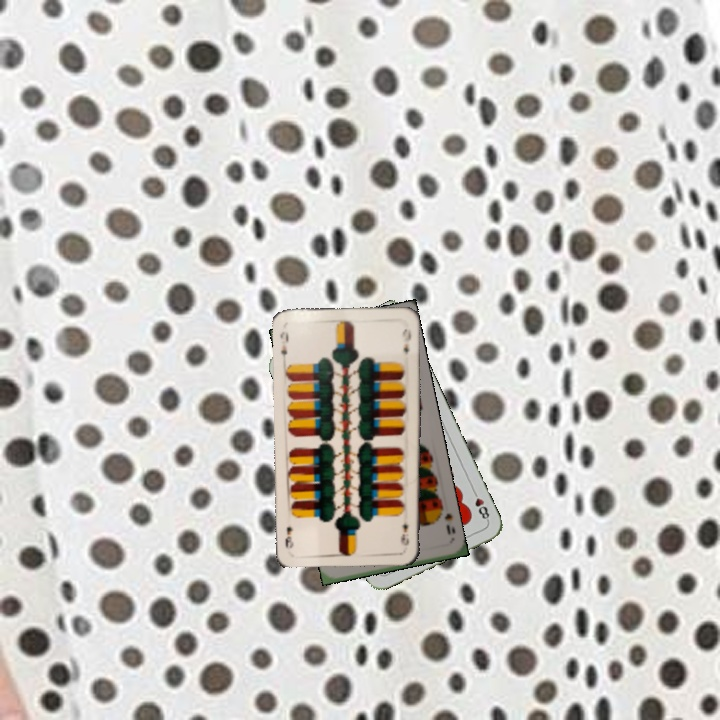E9: (276, 328, 291, 363), (399, 518, 411, 548)
H8: (468, 486, 492, 524)
S9: (435, 502, 455, 537)
